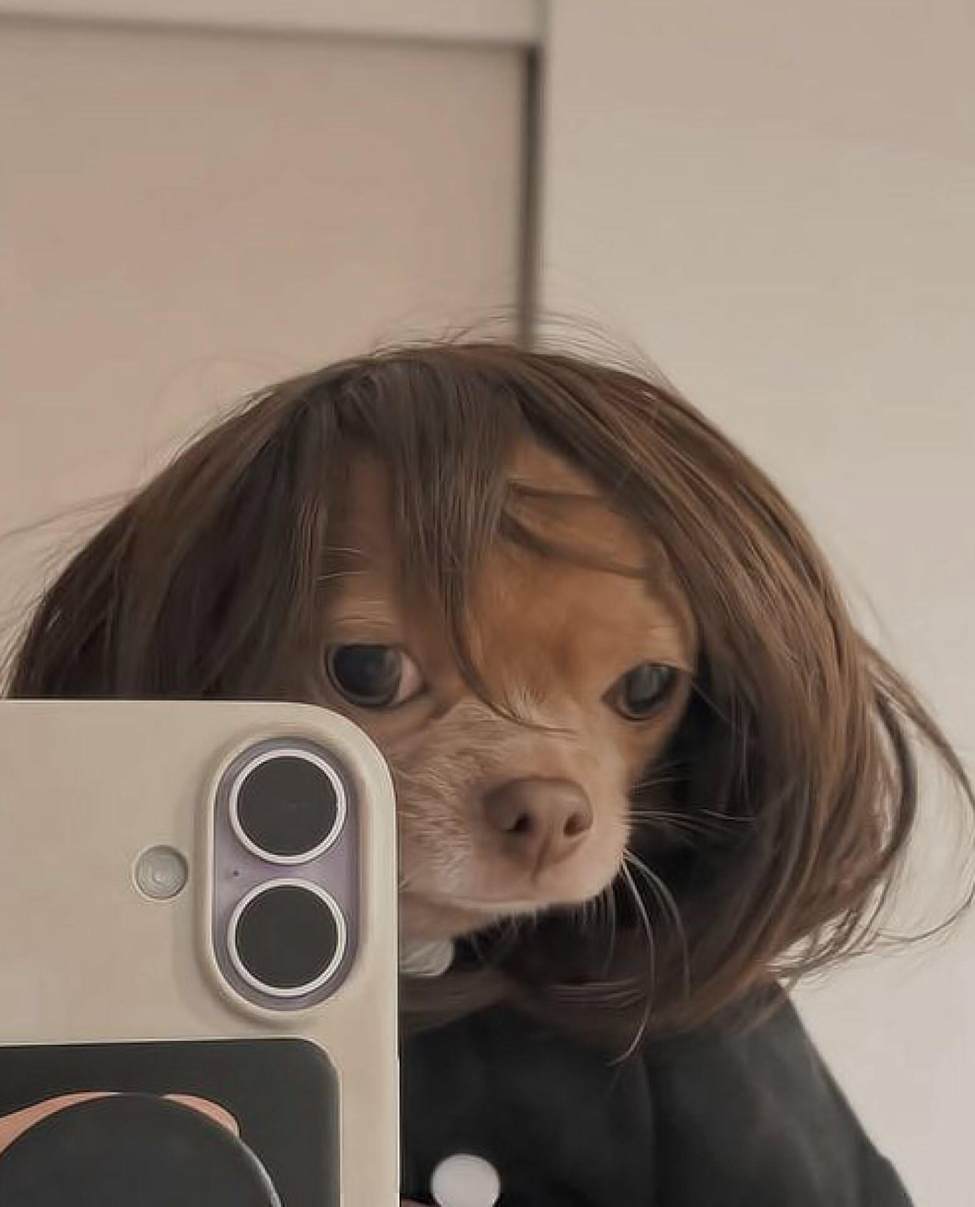adult_dog: (294, 413, 718, 1017)
